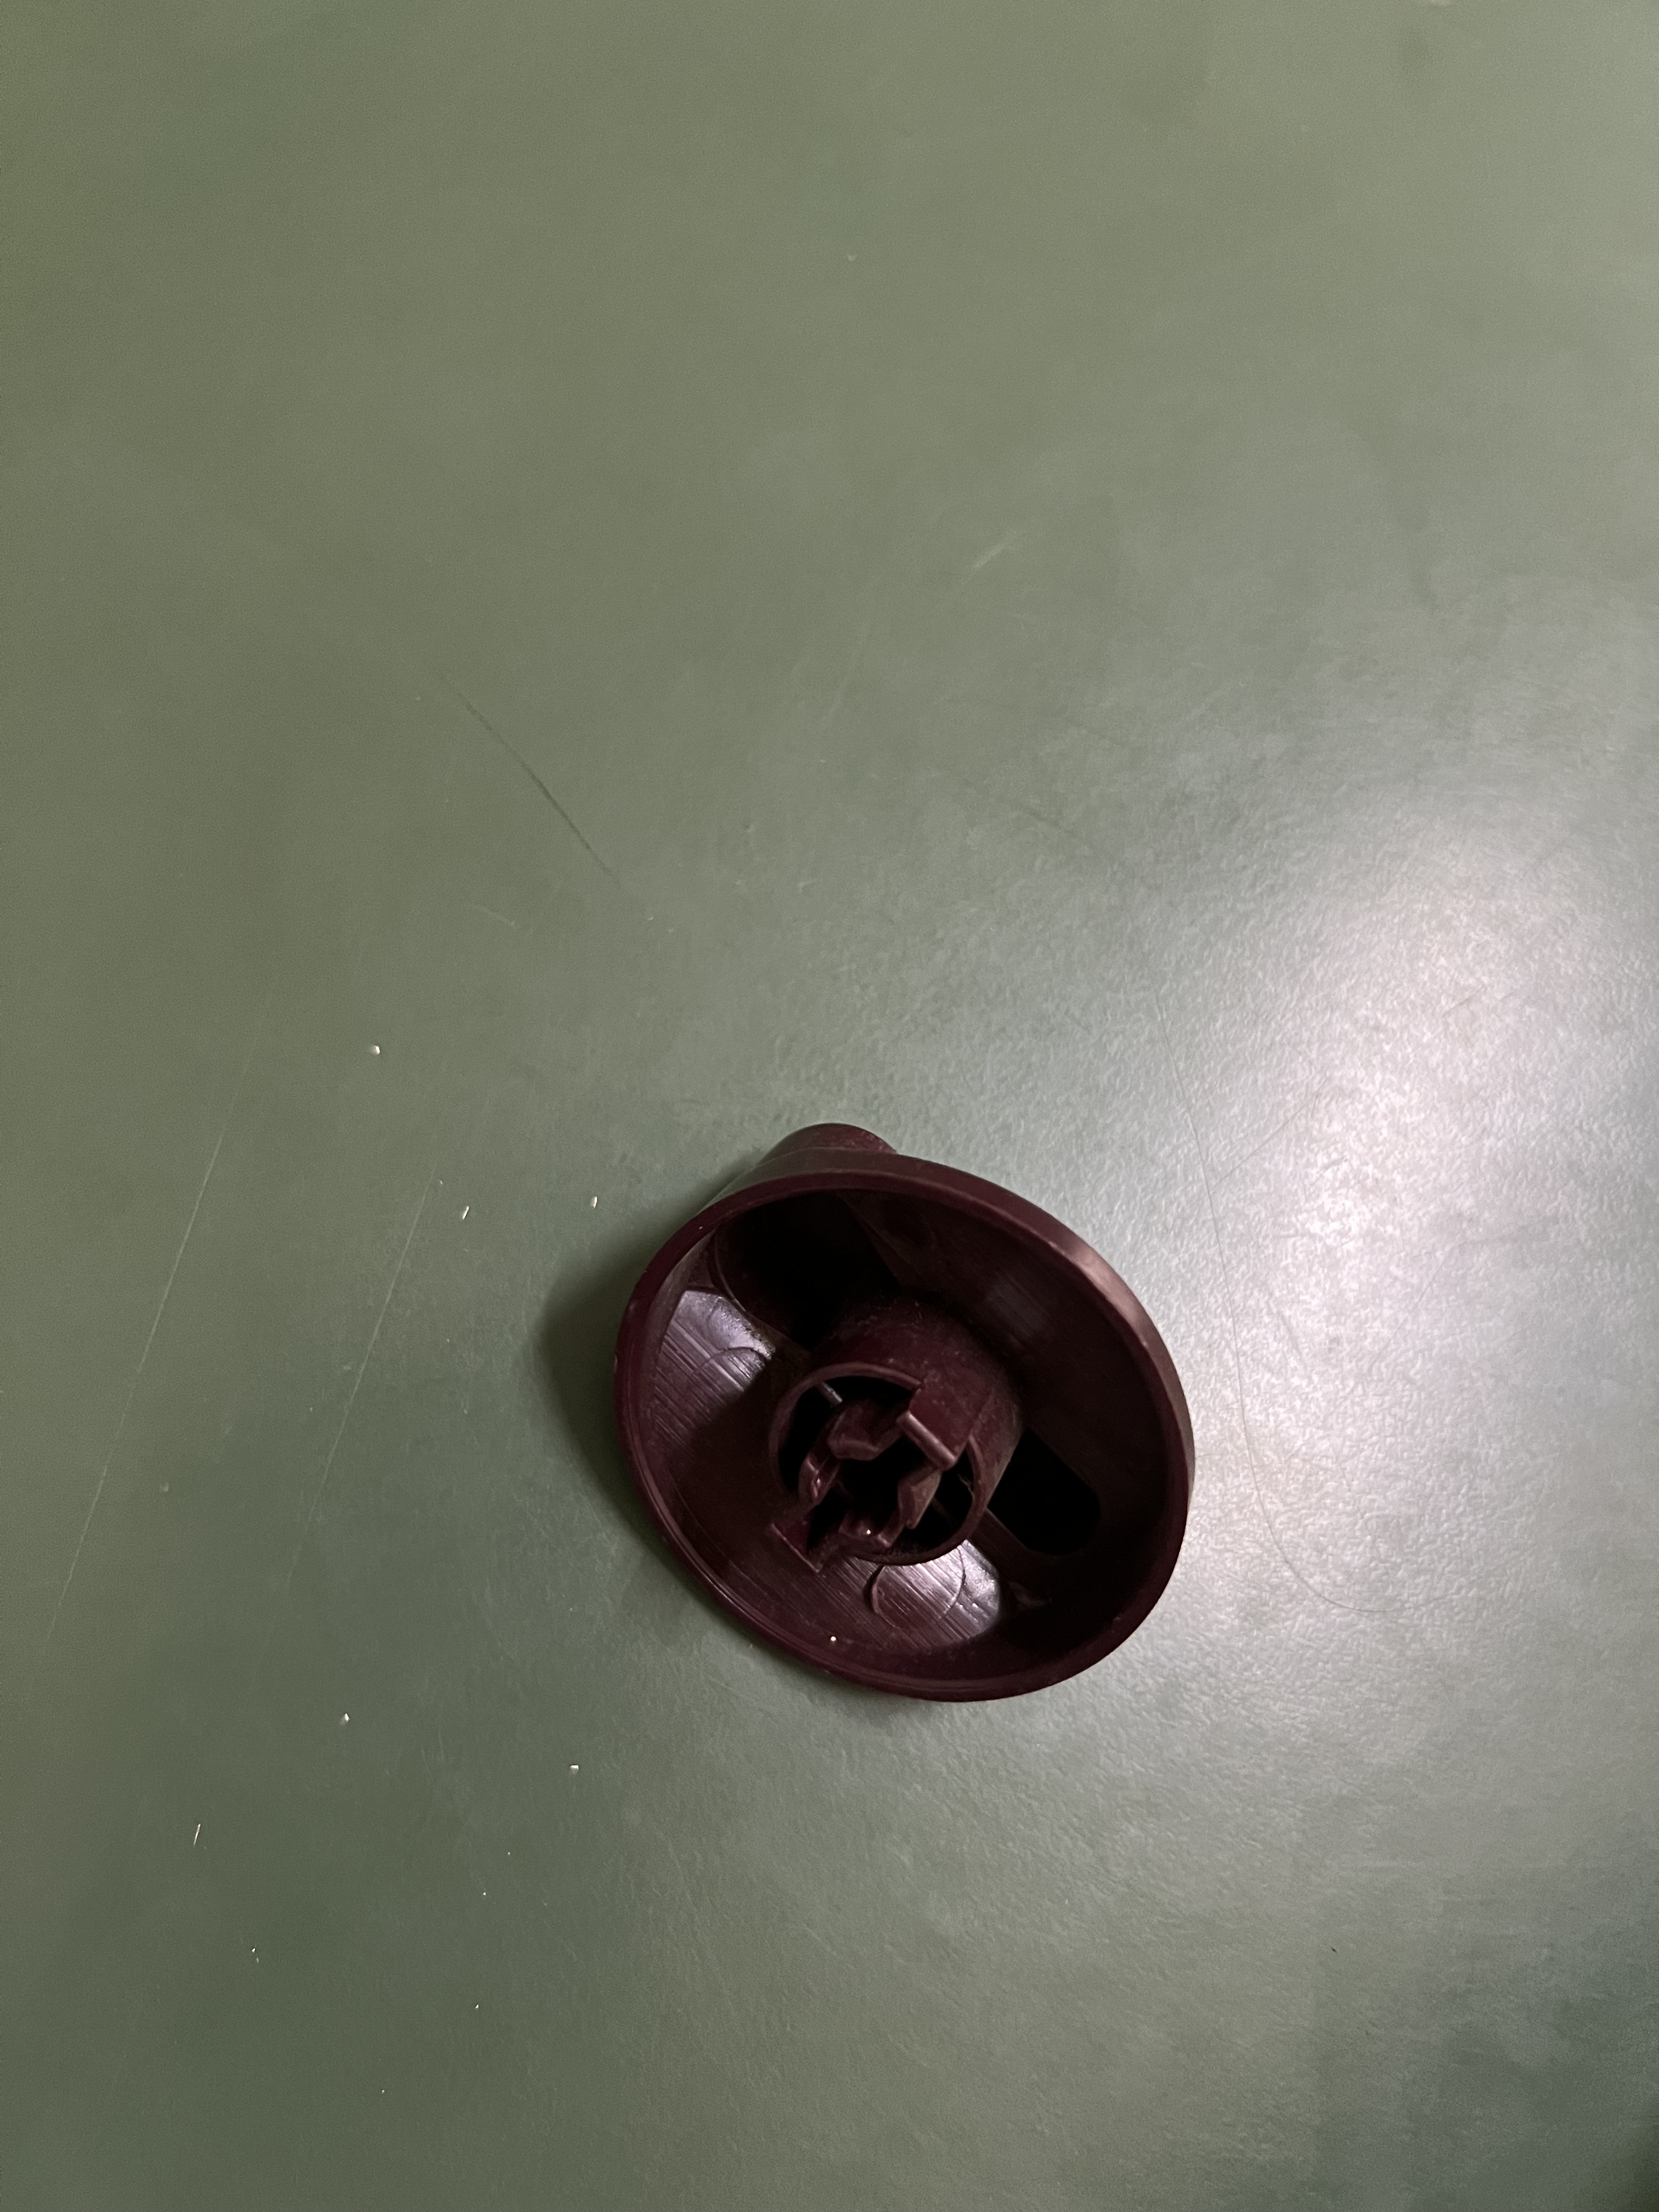regulator: (633, 1110, 1211, 1708)
